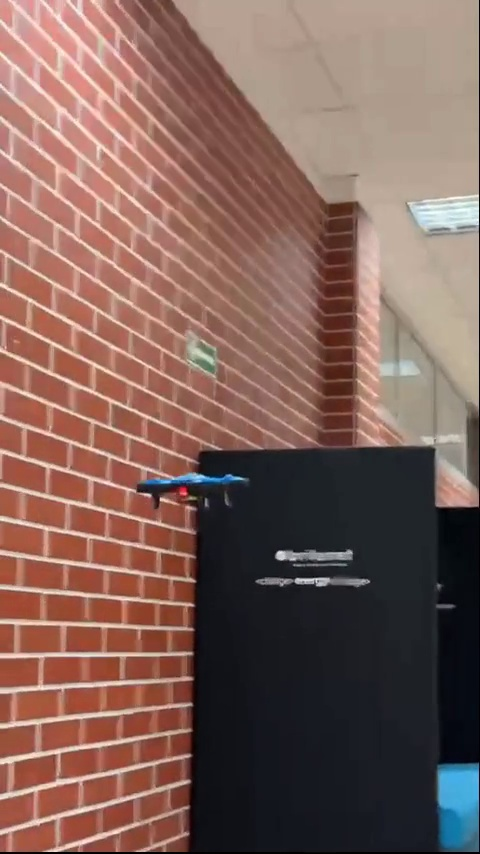drone: (138, 472, 252, 511)
